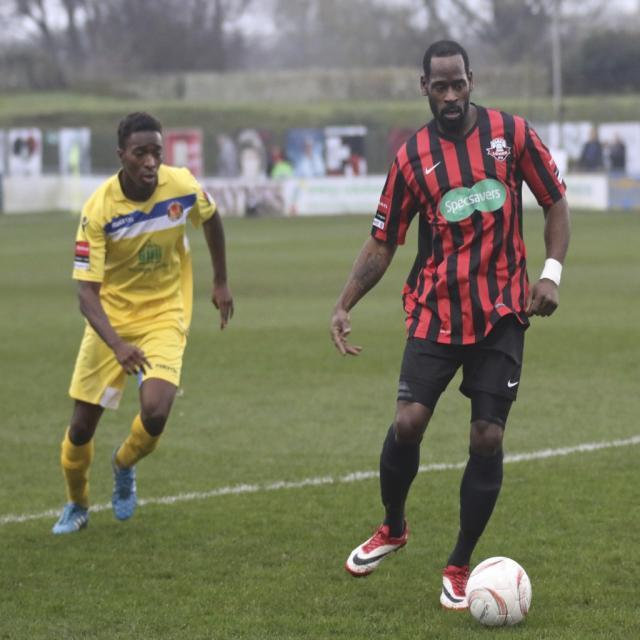football: (462, 538, 546, 634)
